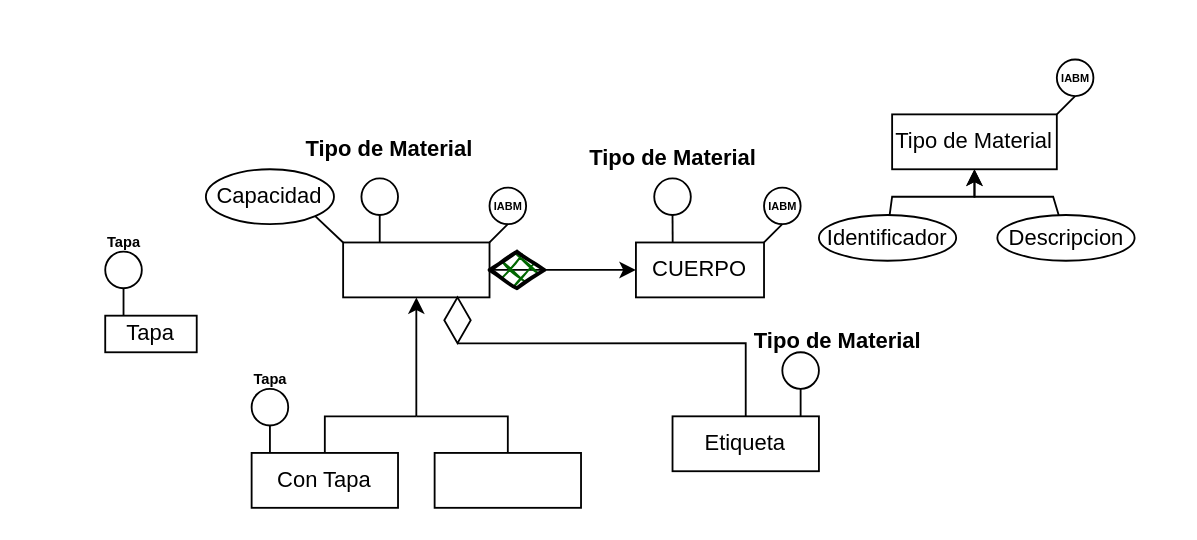
Some shapes in this 1197 by 540 pixel diagram are drawn without their labels. The shapes that lost their labels are listed below. From the top down, each one's box as (x1, y1, x2, y2) in pixels, then its label:
(341, 241, 490, 297): BOTELLA
(433, 451, 581, 508): Sin Tapa
